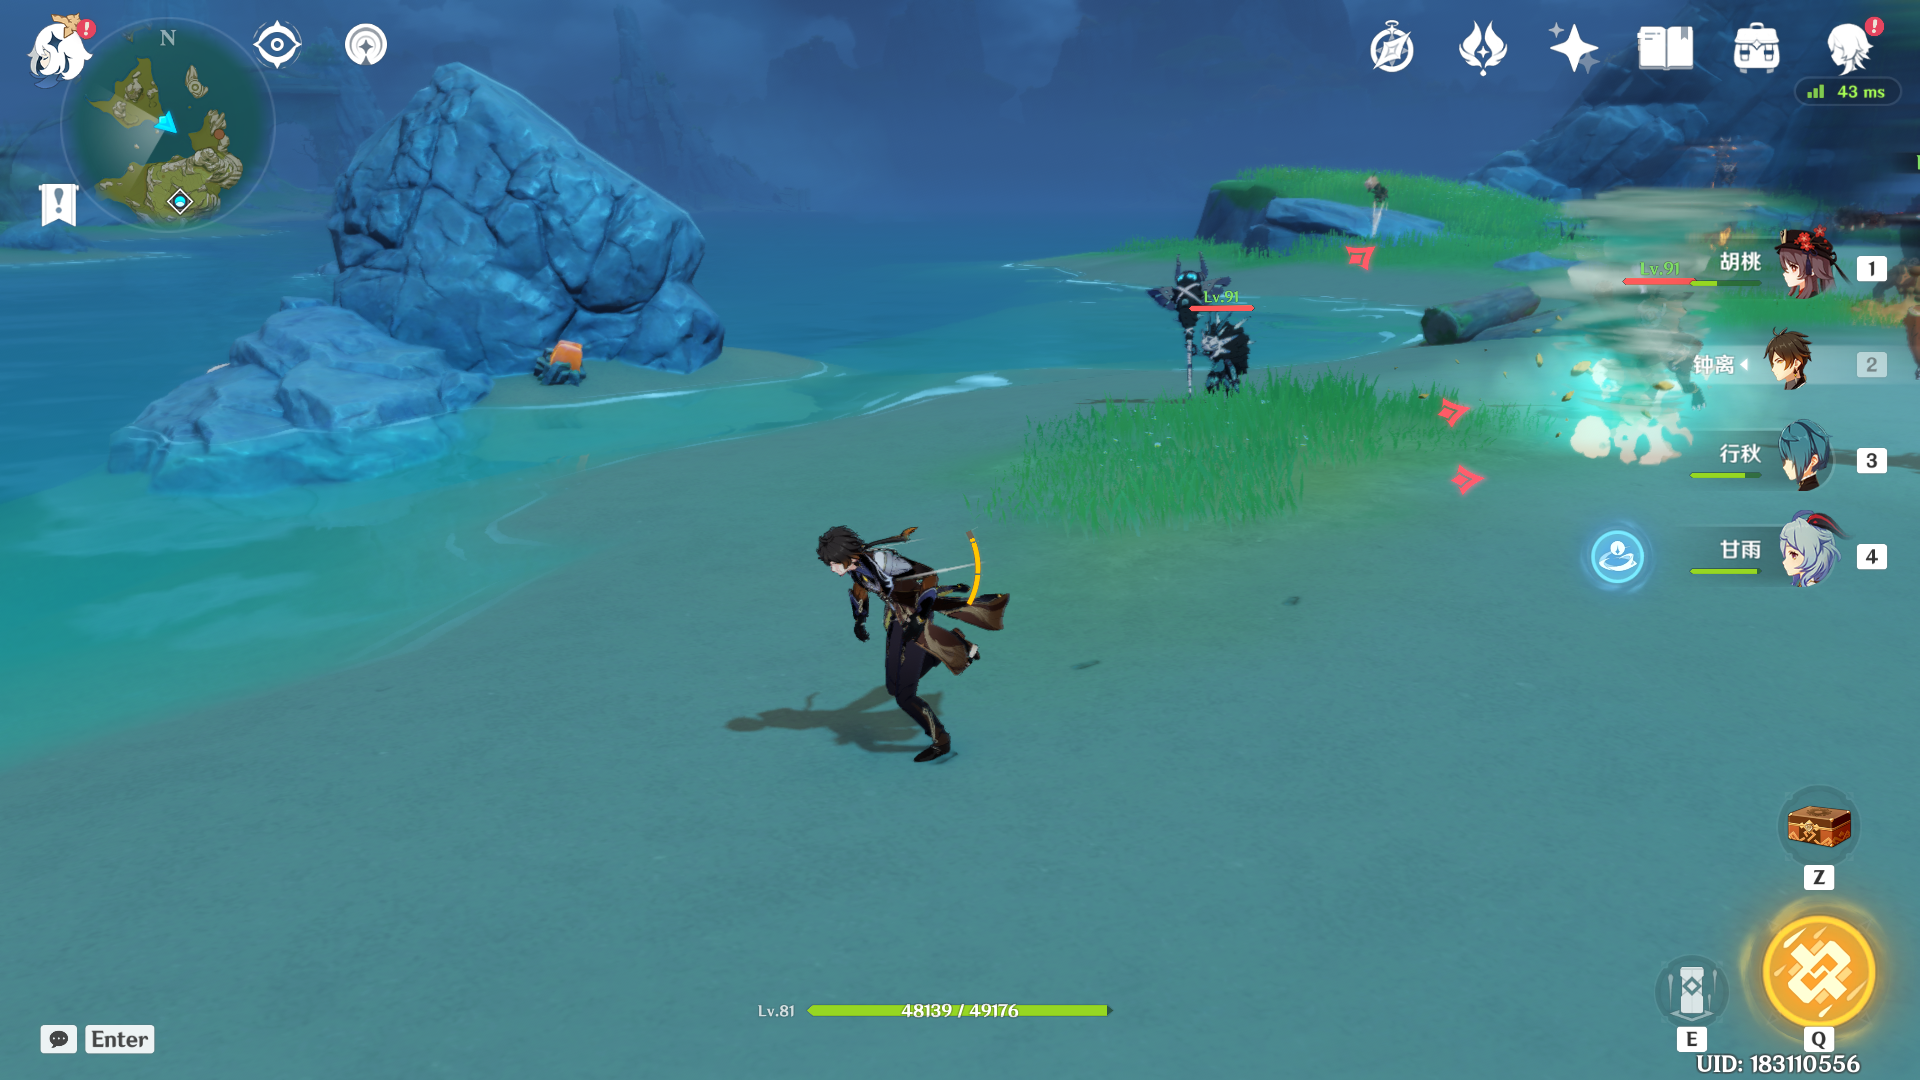character: (758, 480, 1050, 810)
hili: (1120, 256, 1275, 435)
